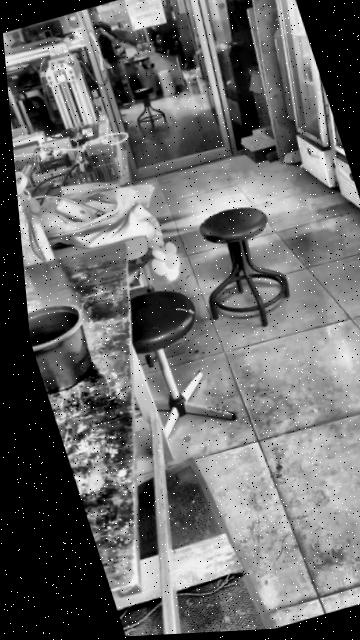pot: (27, 296, 104, 394)
